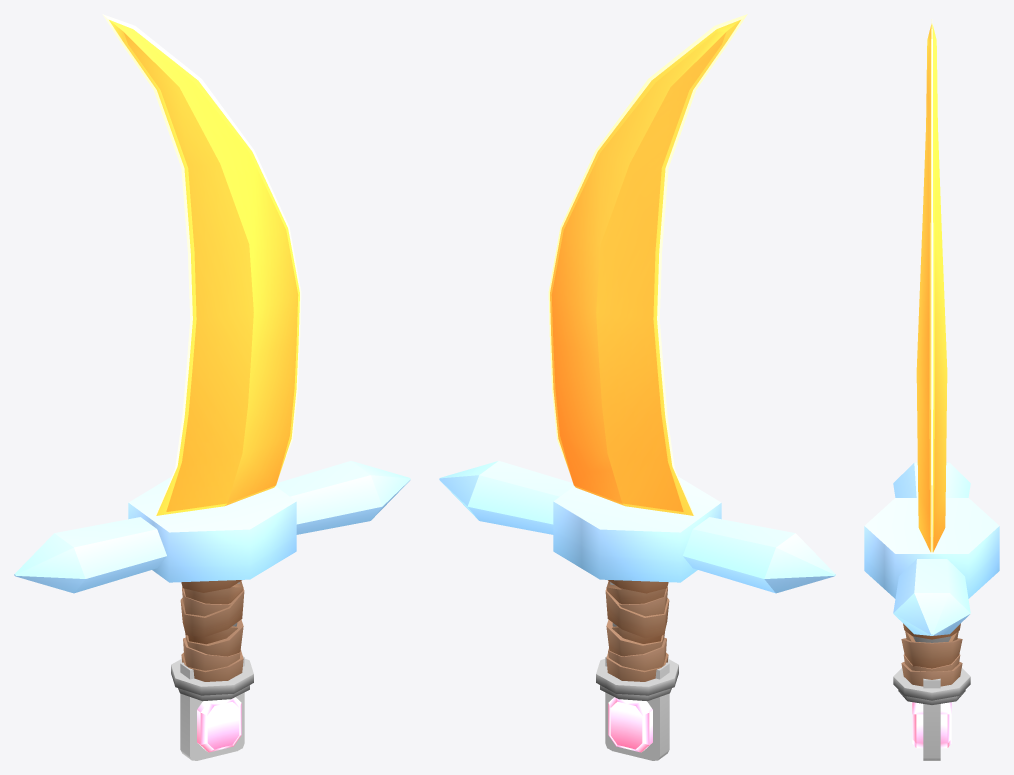
File: example_sword_015.glb
The picture shows the model from 3 angles, left to right: view 1: azimuth 30°, elevation 25°; view 2: azimuth 150°, elevation 25°; view 3: azimuth 270°, elevation 25°; orthographic projection. The views are drawn at different scales.
Parts seen in each view (by area): view 1: example_sword.015; view 2: example_sword.015; view 3: example_sword.015.
Part boxes in pixels (x1,y1,x2,y2): example_sword.015: [14, 14, 410, 760]; example_sword.015: [439, 14, 835, 760]; example_sword.015: [864, 19, 999, 760].
Bounding box in the file's own units: 9.73 × 18.02 × 3.21.
Materials: 1 (1 with a texture image).
